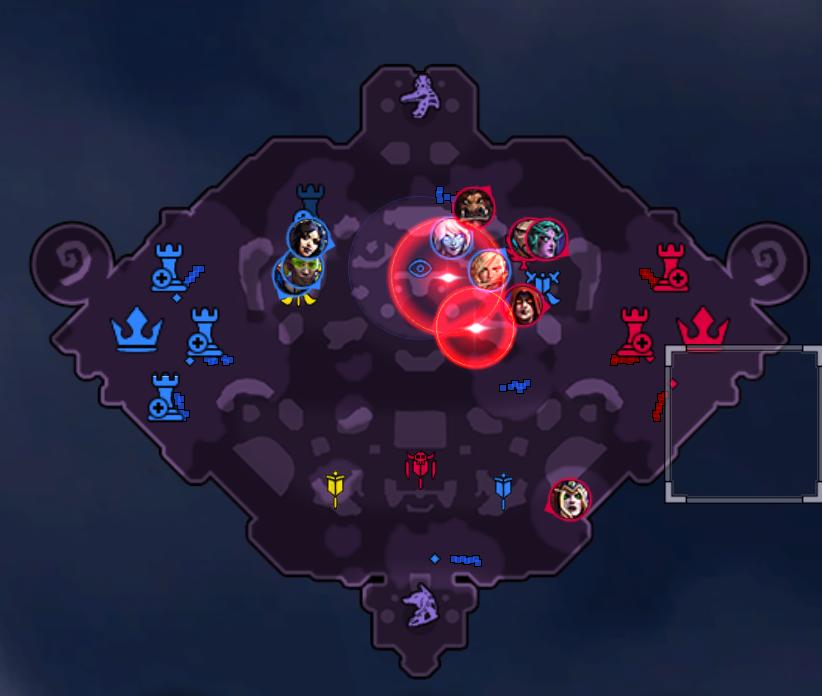blue nexus: (108, 304, 165, 353)
blue player: (286, 211, 333, 262), (273, 250, 324, 294), (429, 216, 475, 260), (467, 247, 511, 292)
blue tower: (148, 239, 202, 300), (183, 305, 234, 366), (145, 370, 190, 422)
red nexus: (674, 304, 731, 352)
red player: (546, 477, 593, 521), (452, 185, 495, 228), (505, 283, 546, 328), (525, 218, 568, 260), (504, 217, 540, 261)
red tower: (611, 303, 659, 362), (653, 237, 689, 295)
